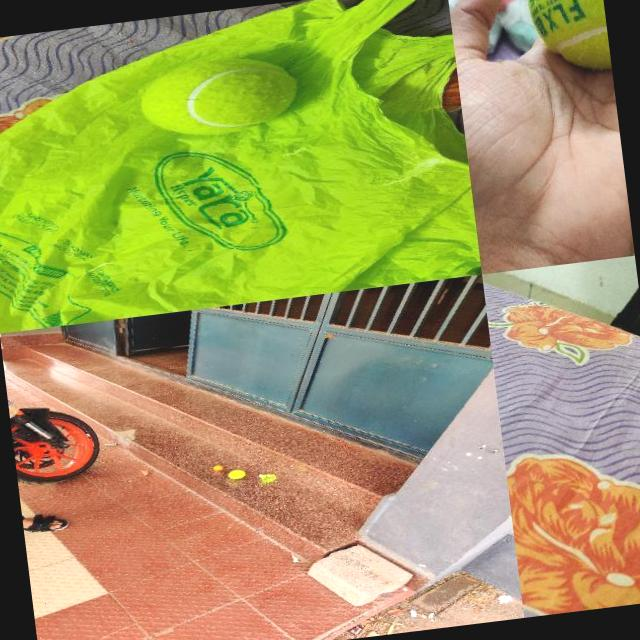Tennis Ball: (136, 49, 303, 143), (523, 0, 610, 77), (227, 468, 244, 478)
